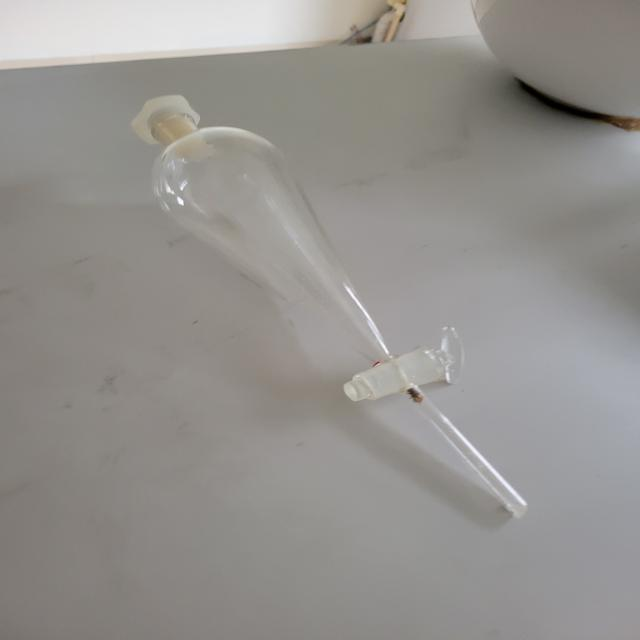Separating_Funnel: (104, 54, 550, 550)
